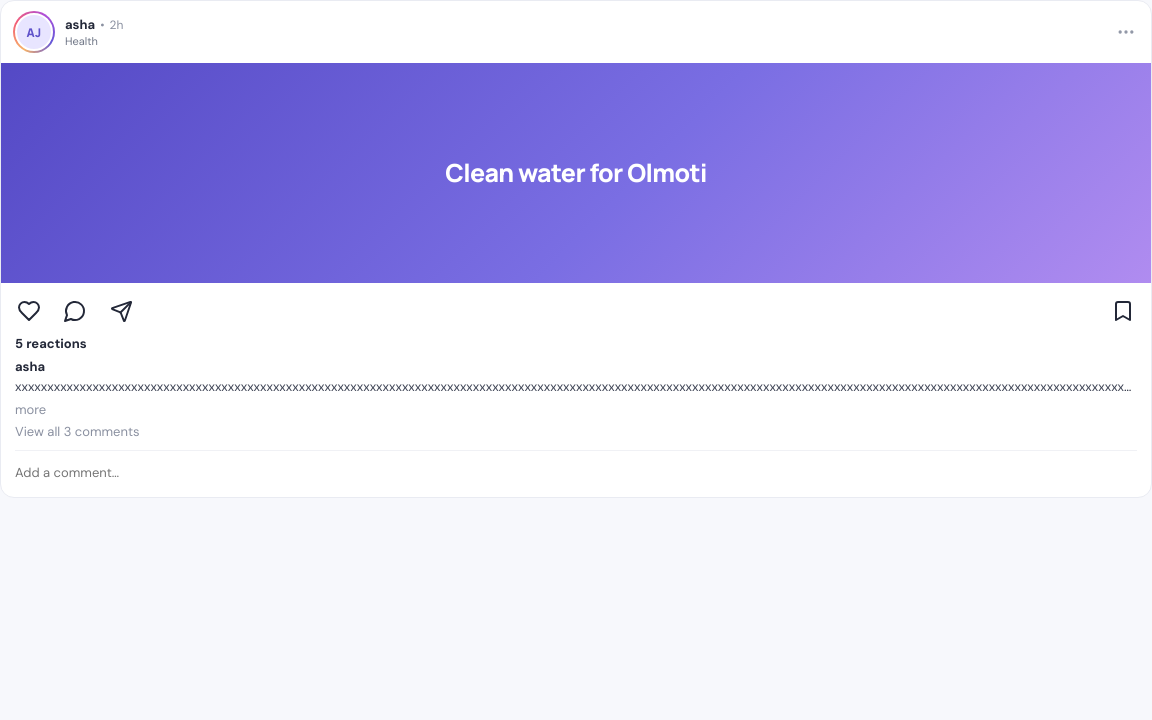
Test: FeedPost › expands long captions with "more"
This screenshot has width=1152, height=720.
Click the button "more": click(31, 410) [15,401,46,418]
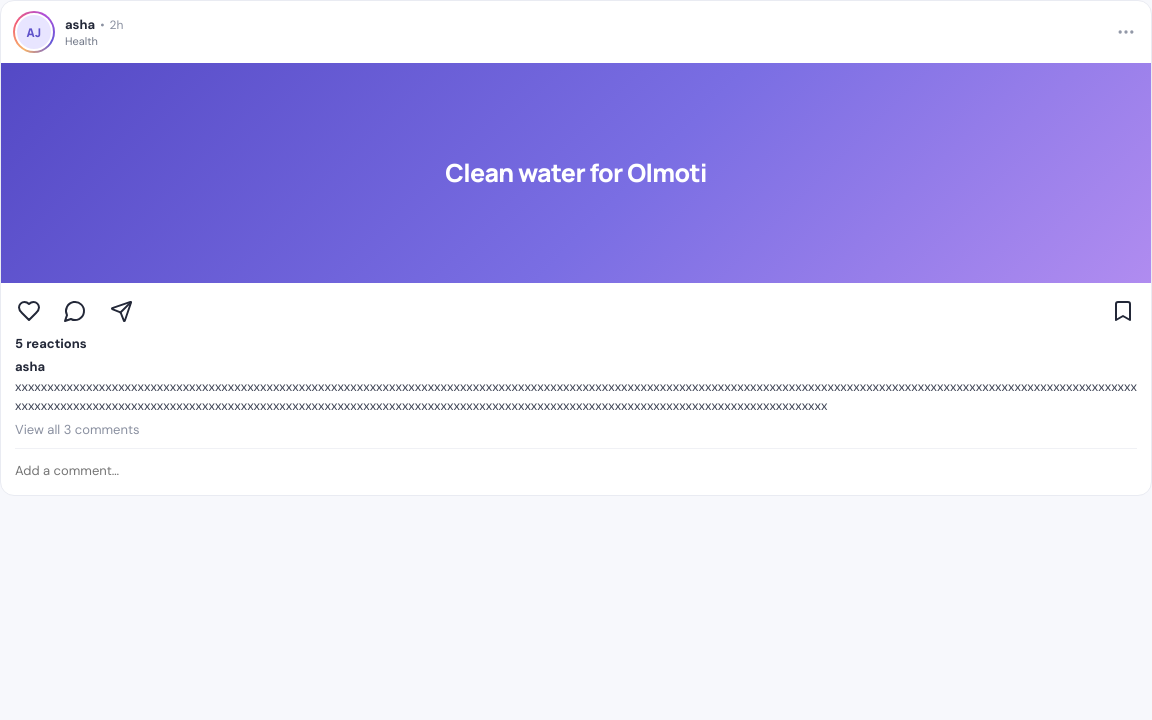
Result: the button "more" is gone
